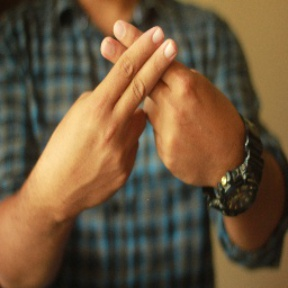F: (67, 14, 211, 154)
